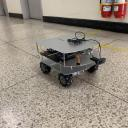cart: (36, 33, 102, 87)
